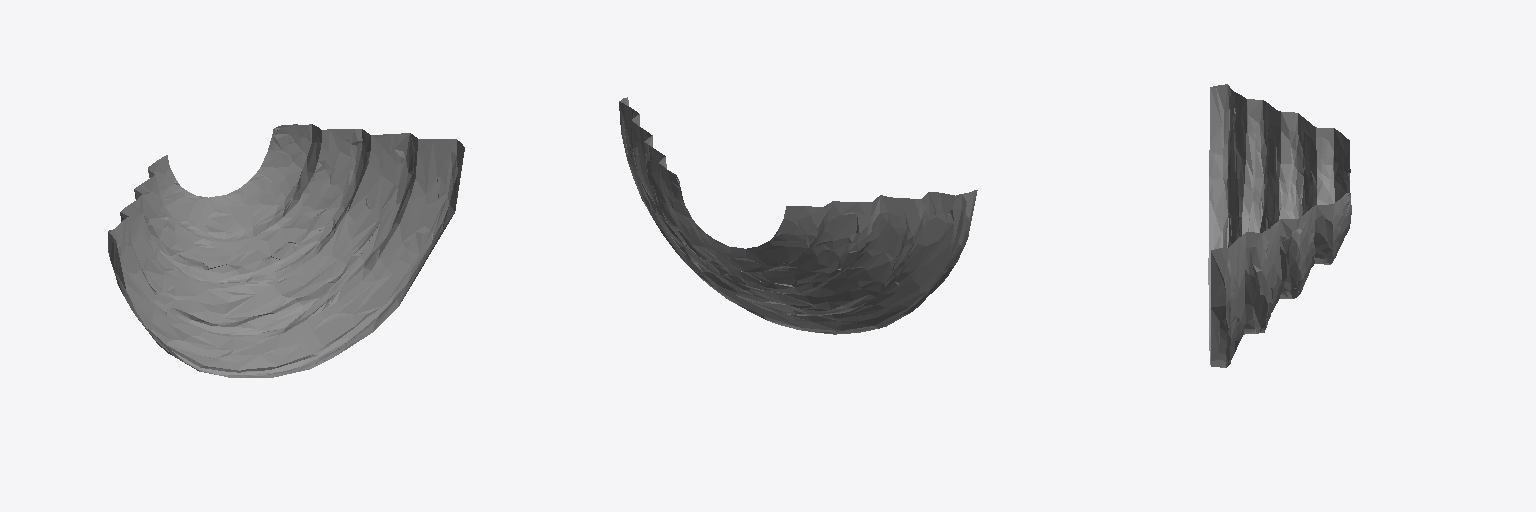
File: kit_40x40m_terrain_2.obj
3 renders of one model, left to right at view 1: azimuth 30°, elevation 25°; view 2: azimuth 150°, elevation 25°; view 3: azimuth 270°, elevation 25°, orthographic.
Visible parts, largest first — view 1: kit_40x40m_terrain_2; view 2: kit_40x40m_terrain_2; view 3: kit_40x40m_terrain_2.
Boxes of the visible parts, x1=… form: kit_40x40m_terrain_2: x1=108, y1=124, x2=464, y2=377; kit_40x40m_terrain_2: x1=619, y1=97, x2=977, y2=334; kit_40x40m_terrain_2: x1=1208, y1=84, x2=1351, y2=367.
Bounding box in the file's own units: 82.73 × 42.67 × 29.41.